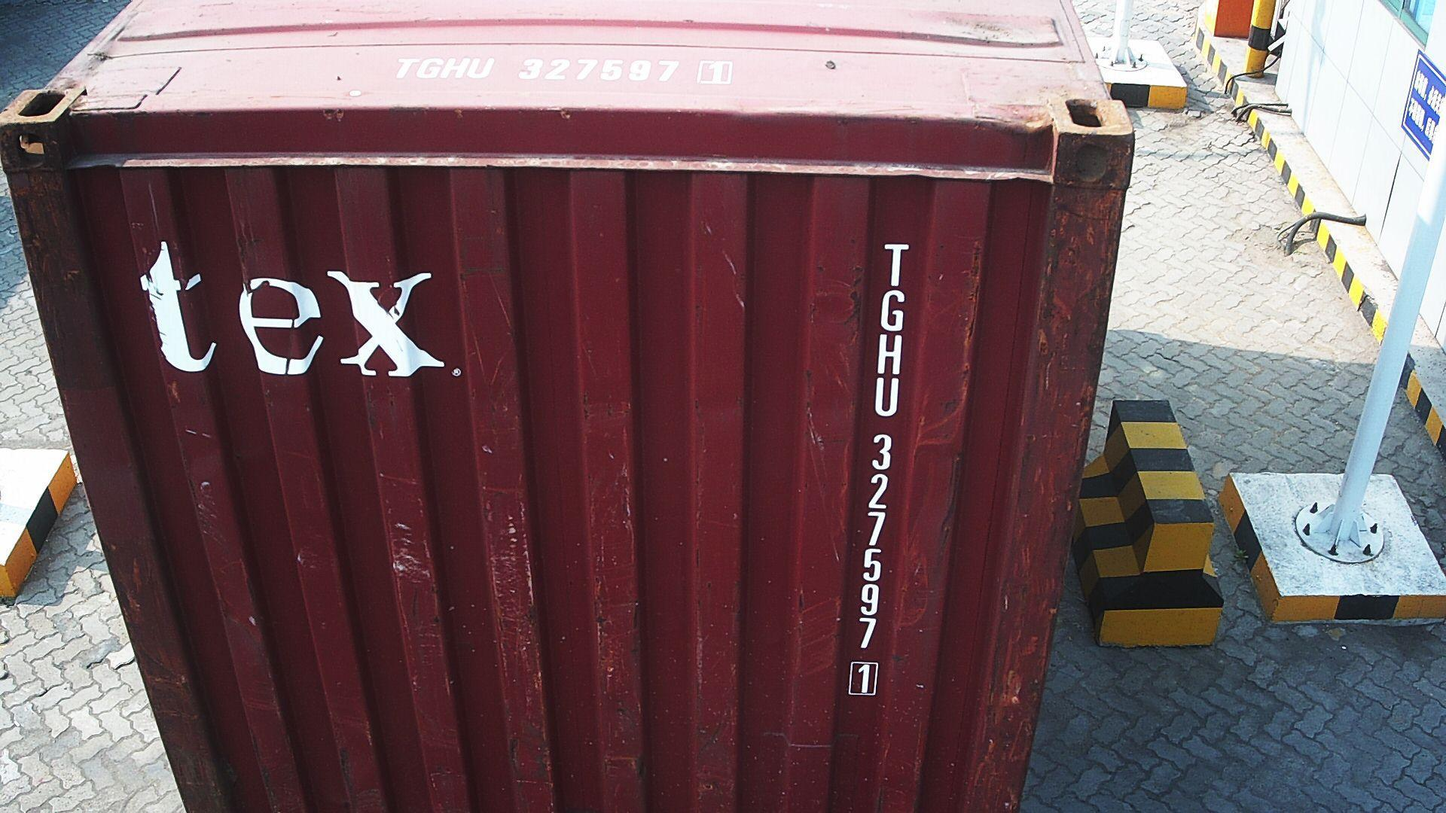container-numbers: (840, 236, 913, 704), (383, 52, 743, 88)
